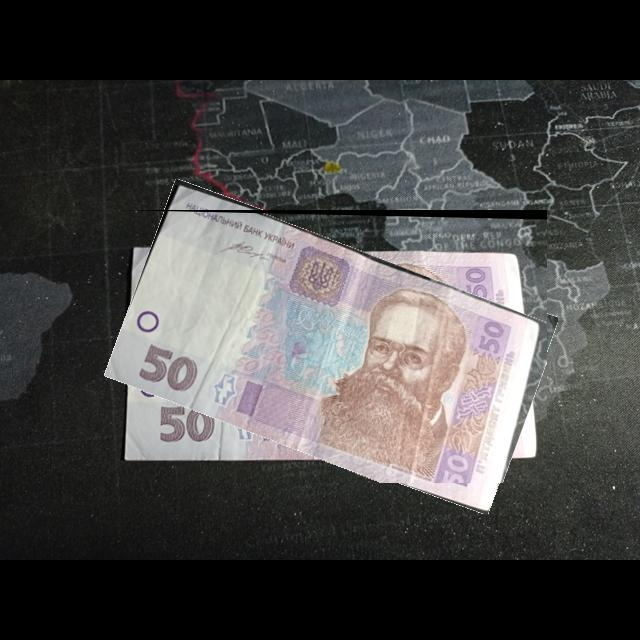50uah: (116, 210, 548, 484)
